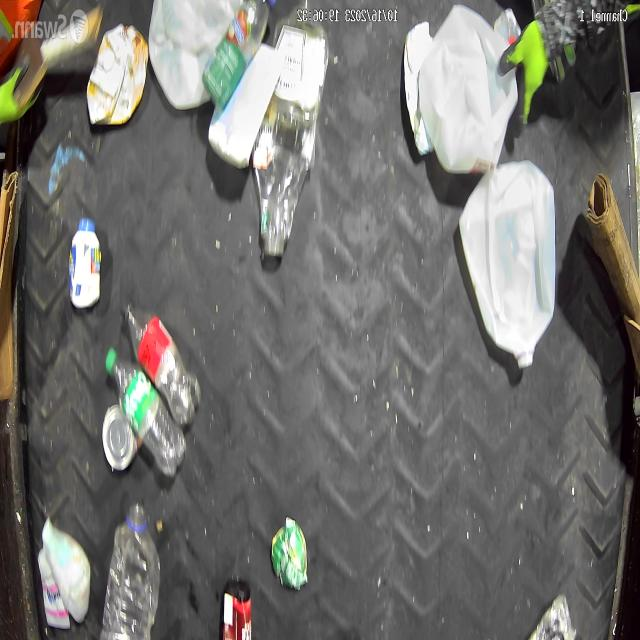can: (207, 27, 280, 166), (270, 516, 308, 594), (100, 408, 138, 473), (221, 574, 252, 640)
milk_jug: (459, 163, 557, 368), (417, 5, 518, 177), (147, 0, 242, 112)
non_white_jug: (86, 22, 149, 132)
plastic_bottle: (255, 11, 328, 259), (104, 348, 185, 478), (121, 298, 201, 428), (99, 502, 161, 640), (201, 0, 276, 110)
